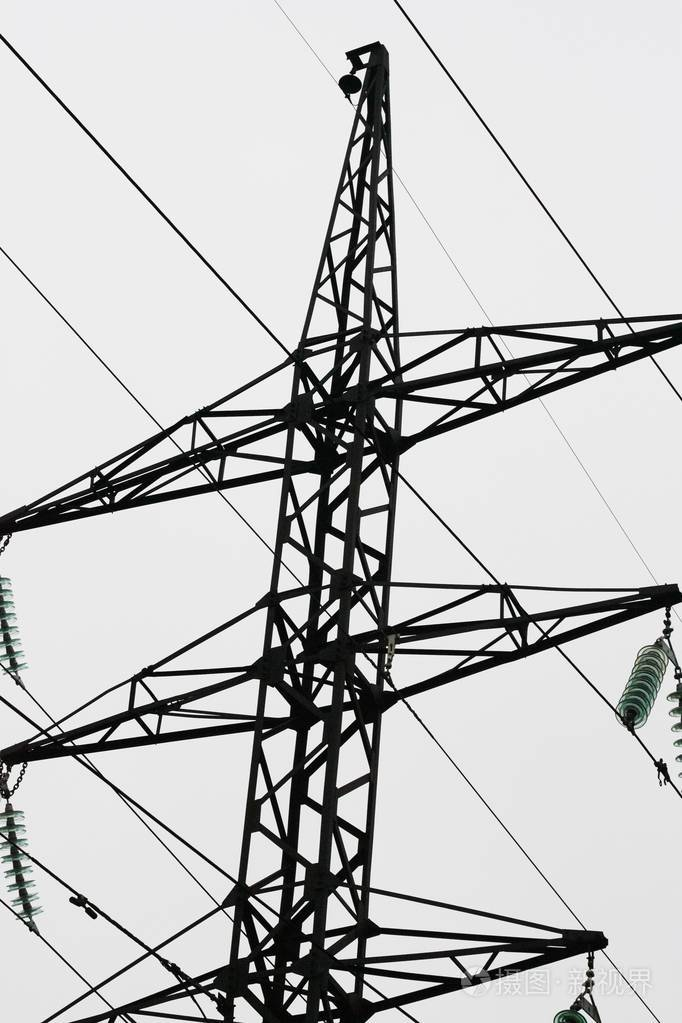insulator: (2, 810, 44, 925), (617, 644, 666, 725), (1, 579, 28, 674)
